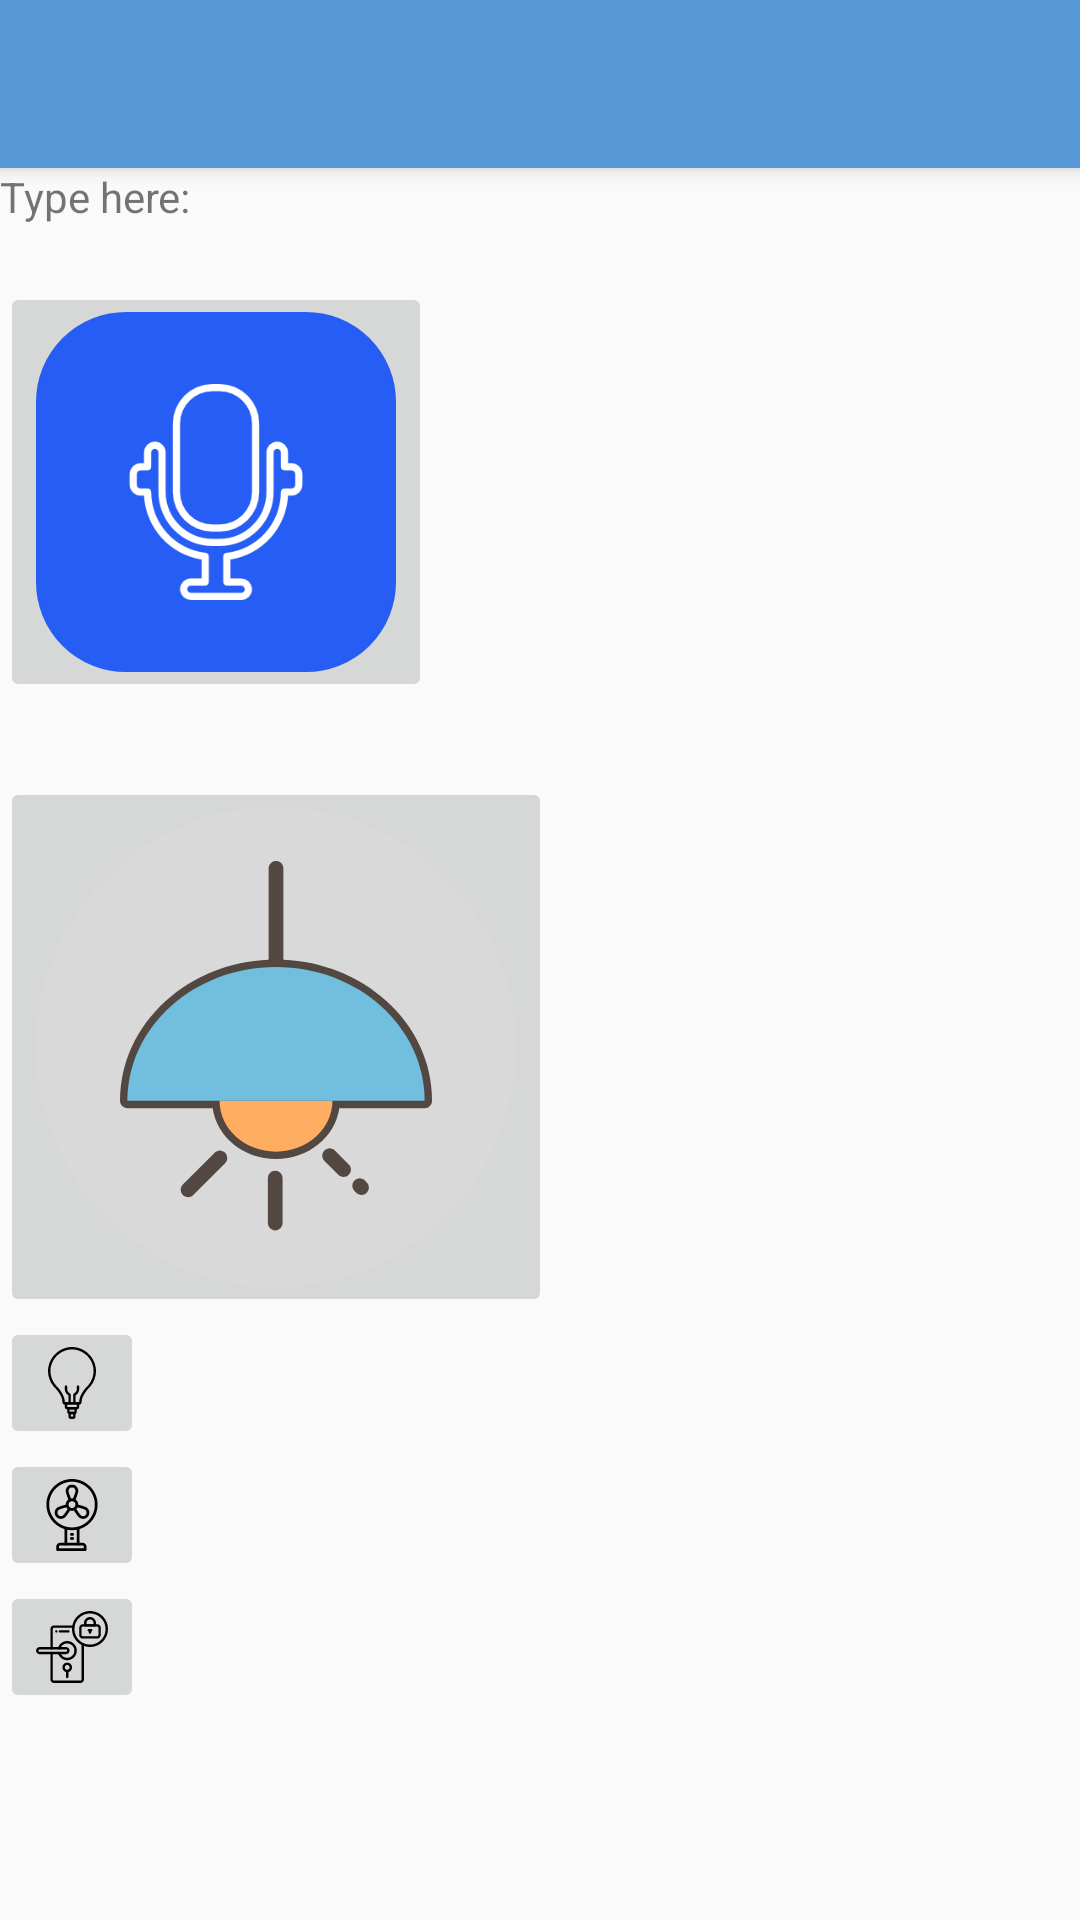

Locate icon controls on the screen. Image size 1080x1920, boxes as (x1, y1, x2, y2).
bulb: (12, 1335, 132, 1431)
door: (12, 1599, 132, 1695)
electric fan: (12, 1467, 132, 1563)
